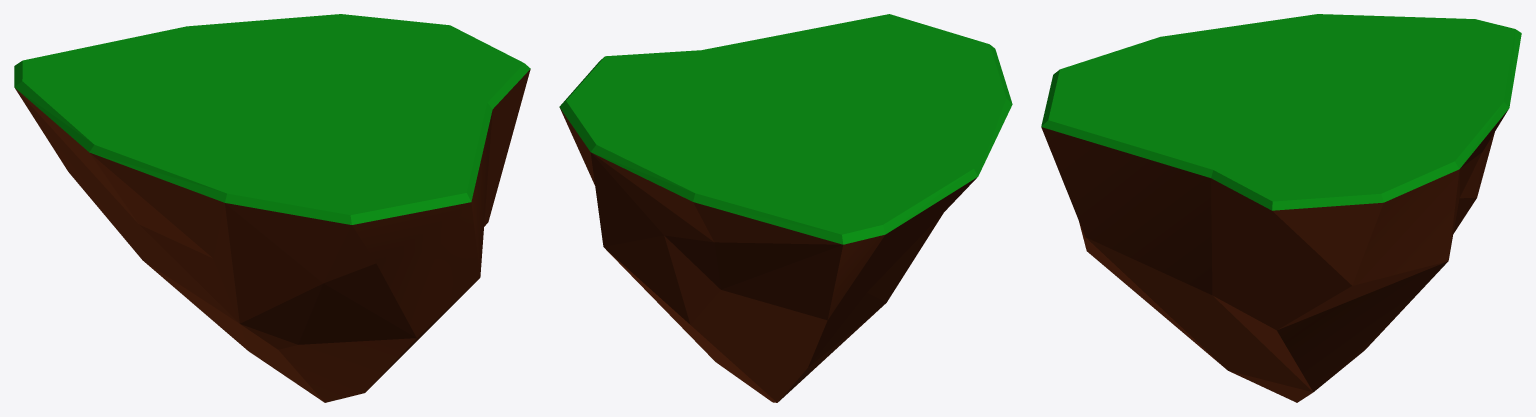
Rendered from FloatingIsland_4.fbx.
3 views of the same model, side by side, from view 1: azimuth 30°, elevation 25°; view 2: azimuth 150°, elevation 25°; view 3: azimuth 270°, elevation 25° (orthographic). The views are drawn at different scales.
Parts seen in each view (by area): view 1: FloatingIsland_4; view 2: FloatingIsland_4; view 3: FloatingIsland_4.
Part boxes in pixels (bbox=[...]): FloatingIsland_4: bbox=[14, 14, 530, 402]; FloatingIsland_4: bbox=[559, 14, 1012, 402]; FloatingIsland_4: bbox=[1041, 14, 1521, 402].
Bounding box in the file's own units: 2545 × 1772 × 2684.
